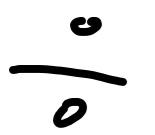div: (11, 14, 128, 129)
